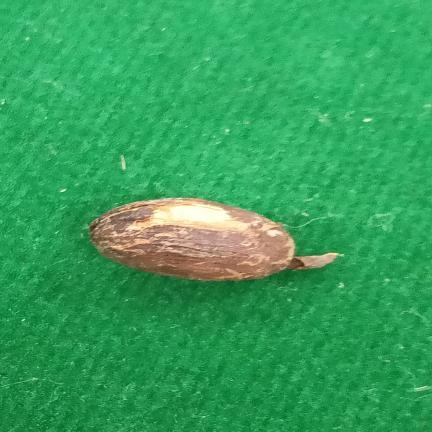full-black: (90, 198, 338, 281)
